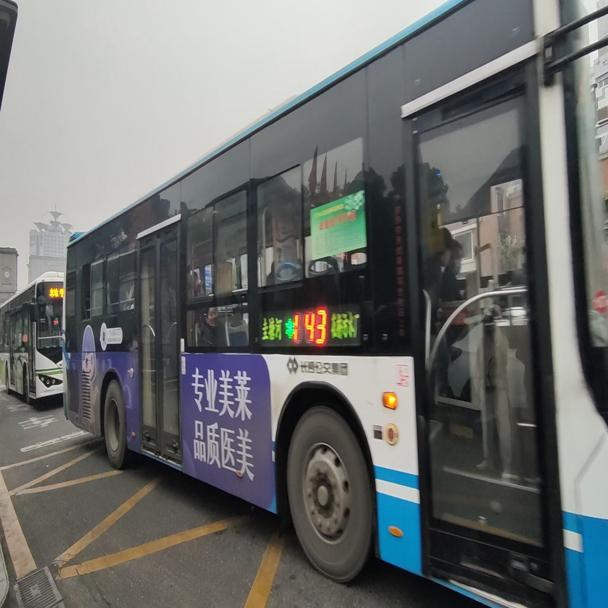bus: (63, 1, 607, 605), (0, 269, 62, 411)
screen: (292, 308, 325, 343)
